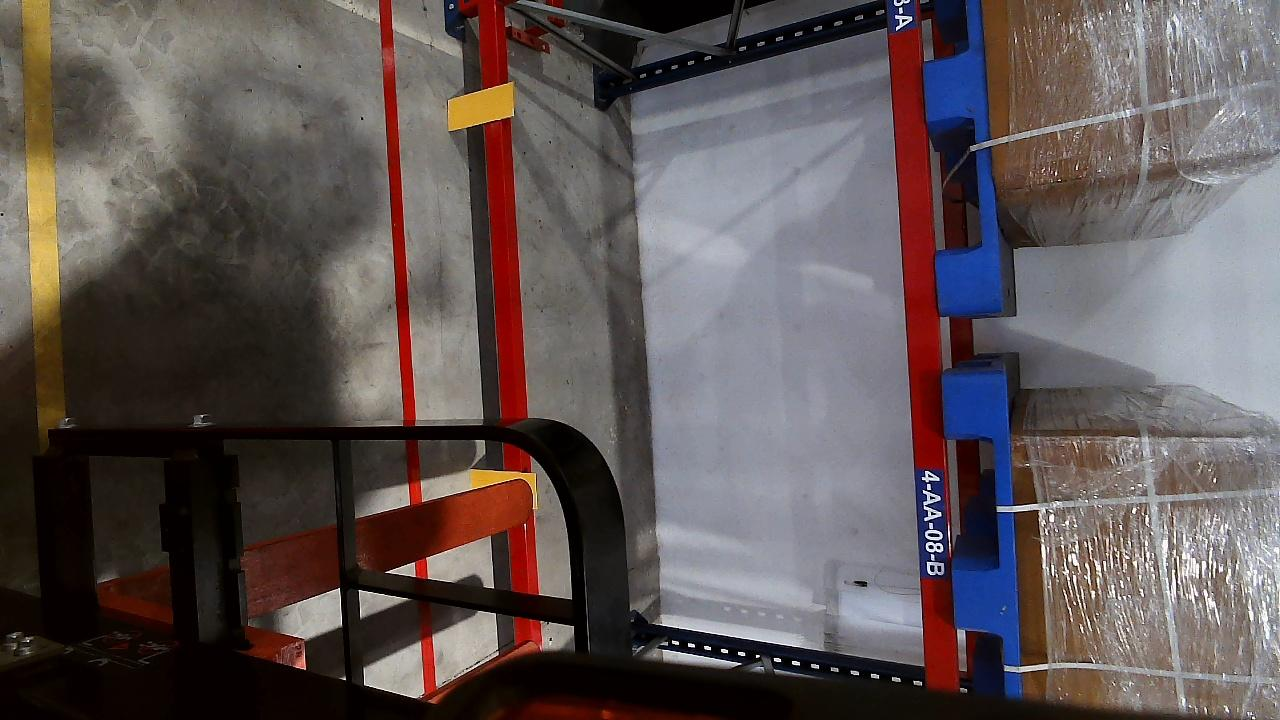h_rack: (884, 0, 955, 687), (473, 5, 524, 421)
orange_strip: (445, 83, 515, 129)
red_line: (378, 0, 417, 438)
small_pallet: (916, 1, 1006, 311), (942, 368, 1024, 679)
yellow_line: (18, 0, 65, 425)
